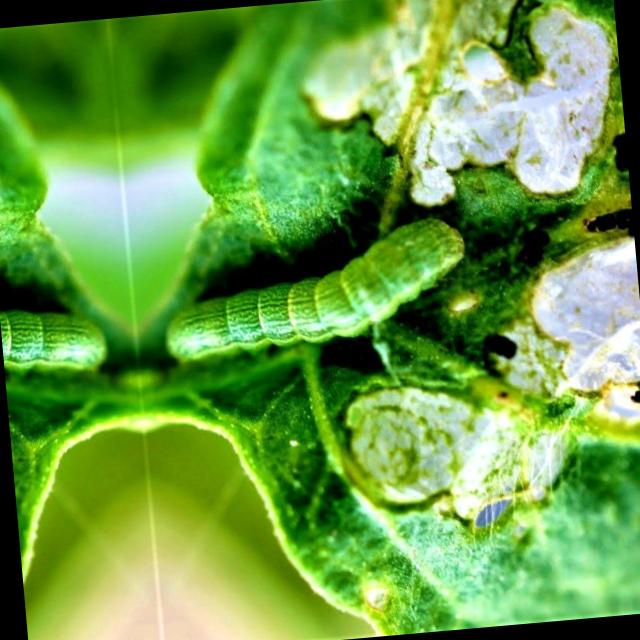Armyworm: (152, 184, 497, 404), (1, 290, 129, 407)
Armyworm_damage: (309, 371, 594, 565), (405, 1, 612, 225), (523, 239, 640, 447)
